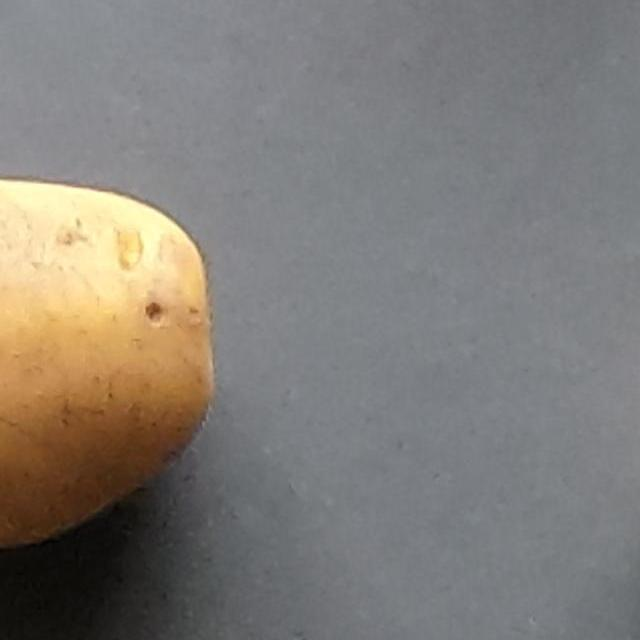potato: (0, 136, 255, 590)
